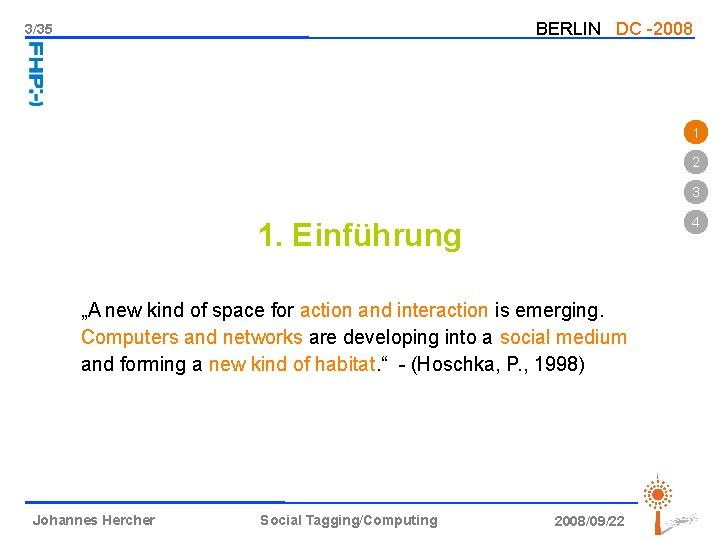paragraph: (66, 285, 659, 410)
subtitle: (23, 502, 639, 540), (233, 199, 508, 275)
title: (516, 9, 703, 48)
